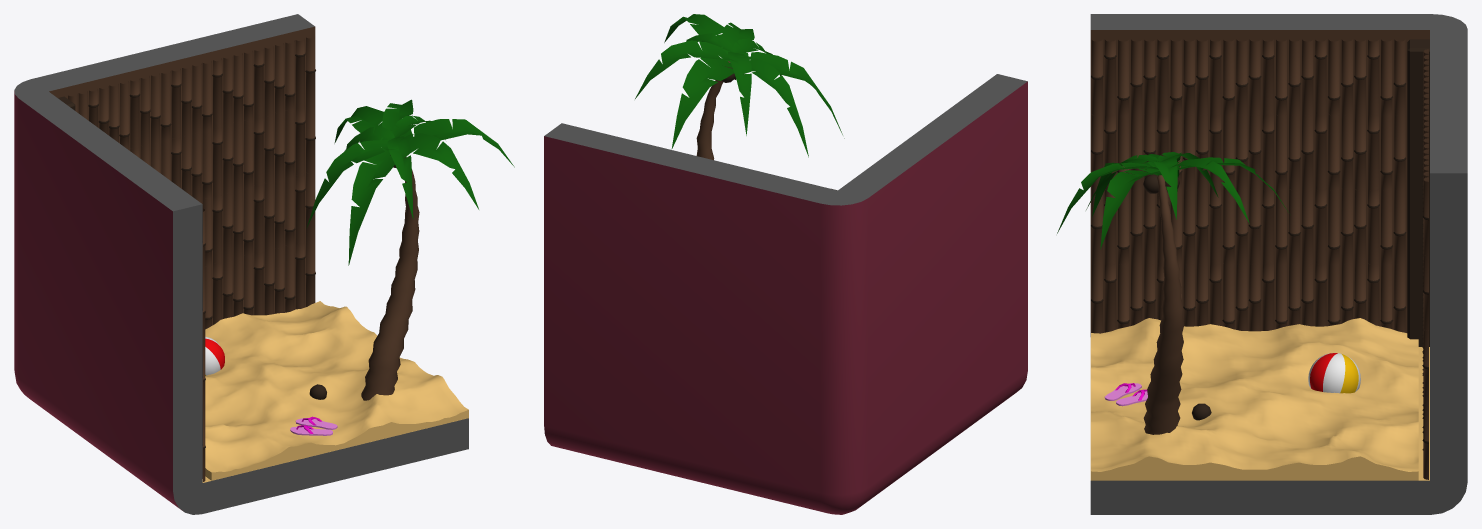
Rendered from beach_room.fbx.
3 renders of one model, left to right at view 1: azimuth 30°, elevation 25°; view 2: azimuth 150°, elevation 25°; view 3: azimuth 270°, elevation 25°, orthographic. The views are drawn at different scales.
Parts seen in each view (by area): view 1: Beach_Room, banboo1, Sand, Leaf, Palm, Banboo, Flipflop, Balloon; view 2: Beach_Room, Leaf, Palm; view 3: Banboo, Beach_Room, Sand, Palm, Log, Leaf, banboo1, Balloon, Flipflop.
Part boxes in pixels (bbox=[...]): Beach_Room: bbox=[14, 14, 468, 514]; banboo1: bbox=[68, 36, 315, 329]; Sand: bbox=[205, 301, 468, 480]; Leaf: bbox=[306, 99, 514, 265]; Palm: bbox=[361, 157, 419, 400]; Banboo: bbox=[202, 208, 205, 481]; Flipflop: bbox=[290, 416, 337, 435]; Balloon: bbox=[205, 336, 224, 375]; Beach_Room: bbox=[544, 74, 1027, 514]; Leaf: bbox=[635, 14, 844, 157]; Palm: bbox=[696, 61, 730, 160]; Banboo: bbox=[1090, 39, 1406, 333]; Beach_Room: bbox=[1090, 14, 1467, 514]; Sand: bbox=[1091, 318, 1418, 480]; Palm: bbox=[1143, 175, 1184, 434]; Log: bbox=[1407, 39, 1429, 346]; Leaf: bbox=[1057, 152, 1288, 249]; banboo1: bbox=[1422, 49, 1428, 479]; Balloon: bbox=[1308, 352, 1360, 393]; Flipflop: bbox=[1104, 383, 1147, 406].
Size of the model in its own units: 234 by 201 by 218.
